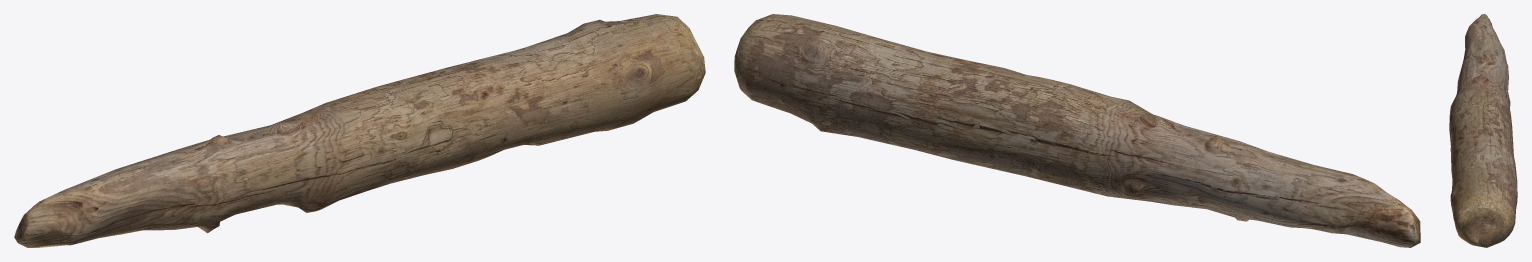
File: tronco.glb
3 renders of one model, left to right at view 1: azimuth 30°, elevation 25°; view 2: azimuth 150°, elevation 25°; view 3: azimuth 270°, elevation 25°, orthographic. The views are drawn at different scales.
Visible parts, largest first — view 1: models\props\zoo\zoo_log_a.vmdl_c.zoo_log_lod1; view 2: models\props\zoo\zoo_log_a.vmdl_c.zoo_log_lod1; view 3: models\props\zoo\zoo_log_a.vmdl_c.zoo_log_lod1.
Boxes of the visible parts, box(x1,y1,x2,y2) form: models\props\zoo\zoo_log_a.vmdl_c.zoo_log_lod1: box(14, 14, 705, 247); models\props\zoo\zoo_log_a.vmdl_c.zoo_log_lod1: box(734, 14, 1420, 247); models\props\zoo\zoo_log_a.vmdl_c.zoo_log_lod1: box(1449, 14, 1517, 247).
Size of the model in its own units: 2.16 by 0.3016 by 0.2943.
1 material, 1 textured.
